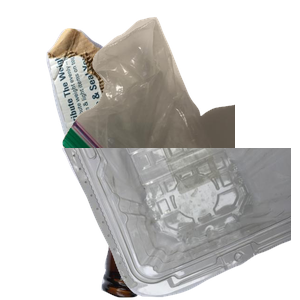cardboard: (44, 26, 209, 186)
glass: (99, 140, 300, 300)
plastic: (60, 148, 300, 300)
trash: (60, 14, 300, 194)
